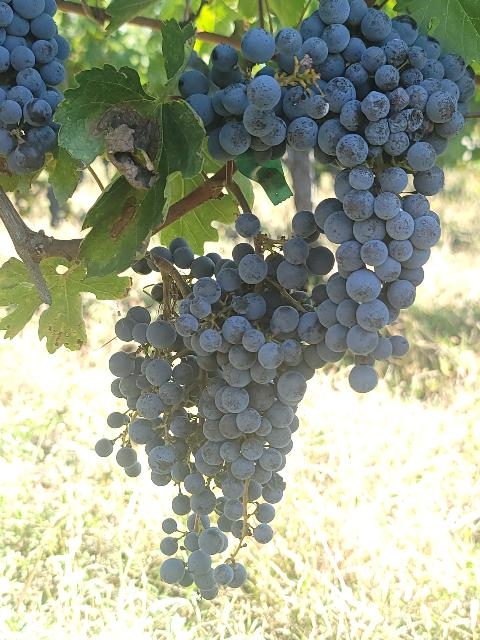grapes: (300, 0, 475, 365), (186, 211, 334, 542), (108, 251, 246, 599), (179, 29, 330, 161)
